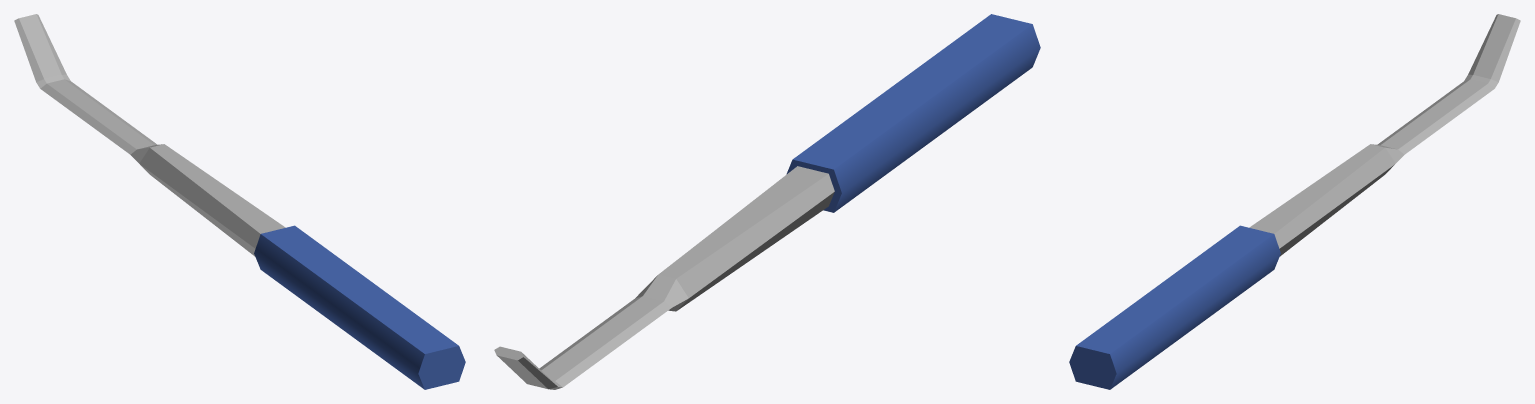
Rendered from Spatuala_new.fbx.
The picture shows the model from 3 angles, left to right: view 1: azimuth 30°, elevation 25°; view 2: azimuth 150°, elevation 25°; view 3: azimuth 330°, elevation 25°; orthographic projection. The views are drawn at different scales.
Visible parts, largest first — view 1: Updated_Spatula_Chem; view 2: Updated_Spatula_Chem; view 3: Updated_Spatula_Chem.
Part boxes in pixels (x1,y1,x2,y2): Updated_Spatula_Chem: (14,14,465,389); Updated_Spatula_Chem: (494,14,1040,389); Updated_Spatula_Chem: (1069,14,1520,389).
Bounding box in the file's own units: 1.2 × 1.61 × 18.32.
